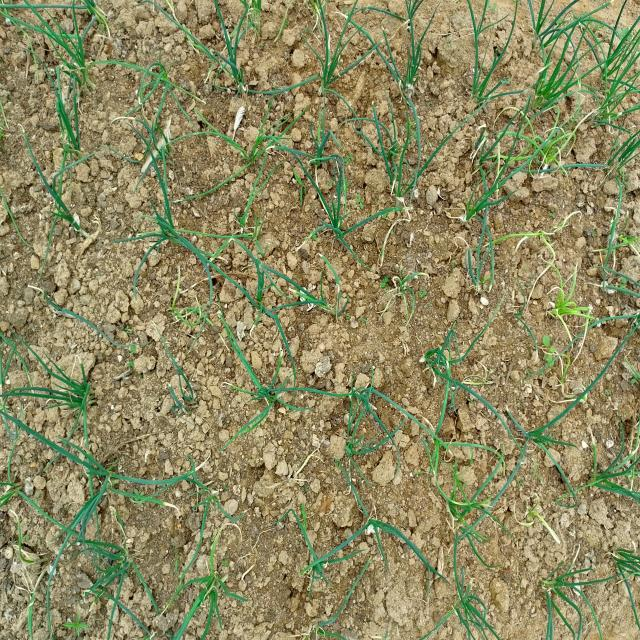Spring Onion: (395, 330, 487, 399), (38, 116, 88, 242), (42, 8, 112, 97), (575, 31, 640, 120), (198, 42, 272, 120), (124, 208, 211, 270), (43, 352, 107, 435), (448, 38, 520, 110), (83, 530, 154, 602), (184, 543, 250, 618), (442, 564, 516, 630), (378, 46, 426, 142), (537, 271, 602, 333), (239, 232, 282, 321), (381, 130, 427, 212), (341, 509, 416, 558), (303, 200, 370, 254), (450, 458, 486, 558), (301, 118, 342, 202), (492, 416, 565, 463), (230, 371, 300, 419), (515, 60, 561, 132), (533, 560, 596, 611), (0, 450, 47, 517), (153, 372, 211, 425), (138, 44, 168, 145), (455, 179, 516, 227), (336, 374, 397, 421), (454, 242, 517, 287), (225, 136, 275, 192), (77, 444, 118, 512), (304, 35, 341, 109), (152, 463, 224, 501), (290, 540, 350, 585), (589, 137, 640, 183), (602, 540, 640, 595), (297, 607, 358, 640), (222, 0, 269, 42), (391, 0, 427, 53), (620, 280, 640, 350), (623, 364, 640, 420)
